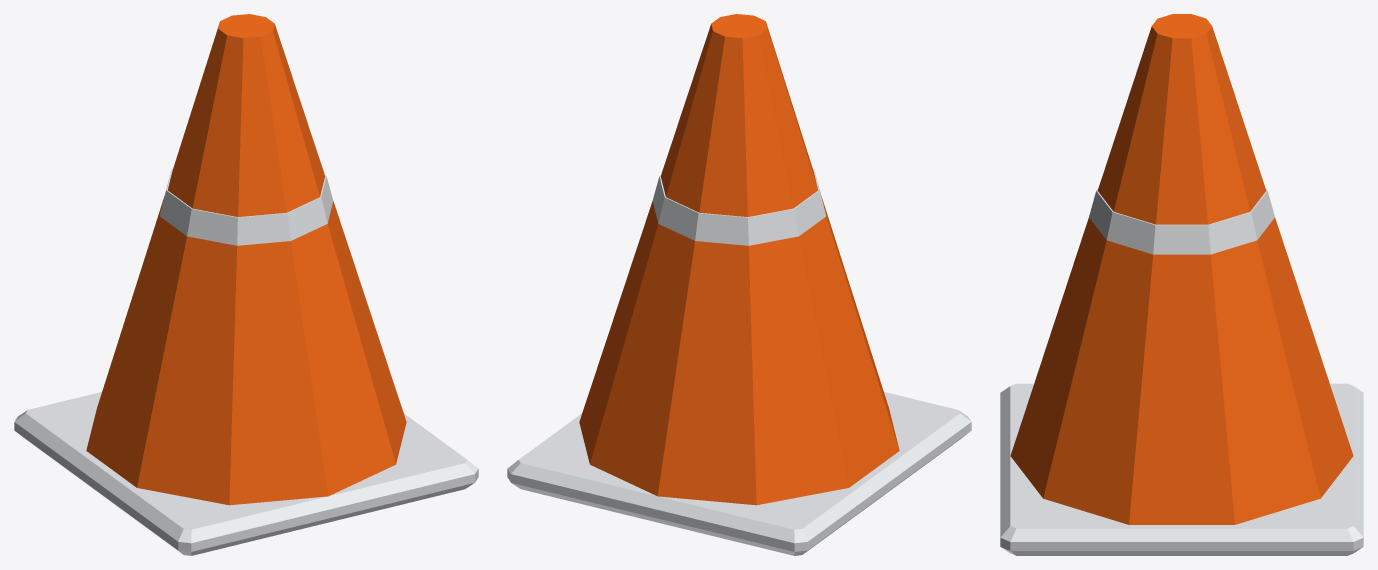
File: field_cone.glb
3 views of the same model, side by side, from view 1: azimuth 30°, elevation 25°; view 2: azimuth 150°, elevation 25°; view 3: azimuth 270°, elevation 25° (orthographic). The views are drawn at different scales.
Parts seen in each view (by area): view 1: field_cone; view 2: field_cone; view 3: field_cone.
Boxes of the visible parts, x1,y1,x2,y2 form: field_cone: (14, 14, 478, 555); field_cone: (507, 14, 971, 555); field_cone: (1000, 14, 1363, 555).
Bounding box in the file's own units: 0.36 × 0.5 × 0.36.
